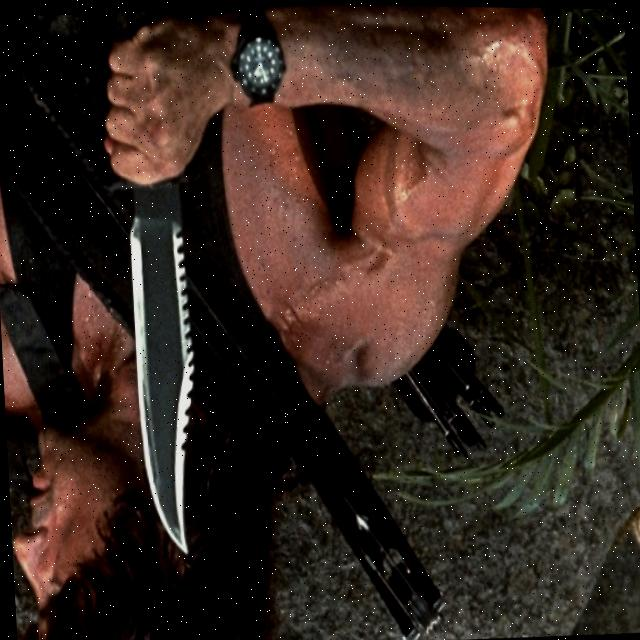knife: (104, 165, 215, 562)
